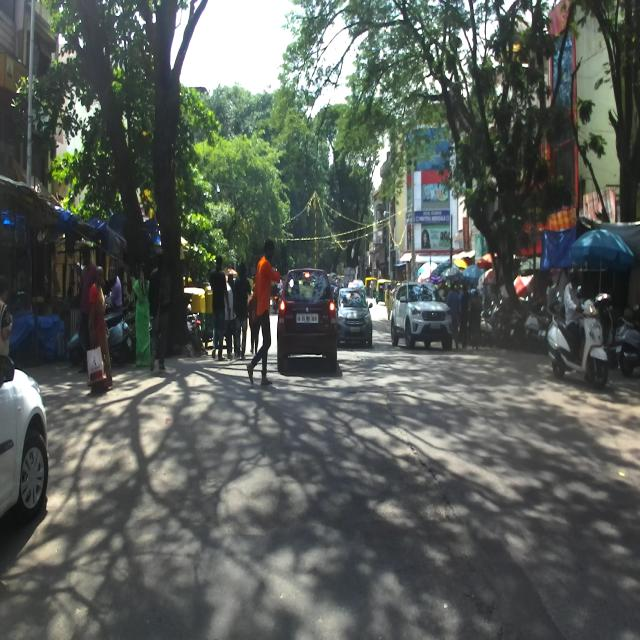car ahead at: (277, 267, 340, 373)
motorcycle ahead at: (547, 299, 610, 396)
person ahead at: (245, 231, 284, 390), (81, 253, 118, 398)
